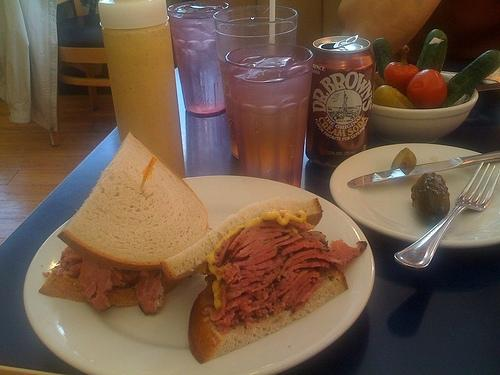tomato: (384, 44, 420, 98), (406, 70, 448, 110)
